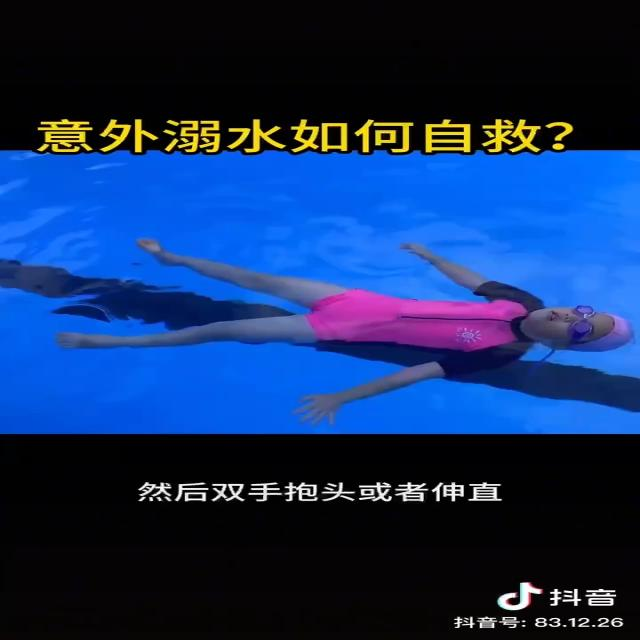Drowning: (58, 233, 632, 431)
